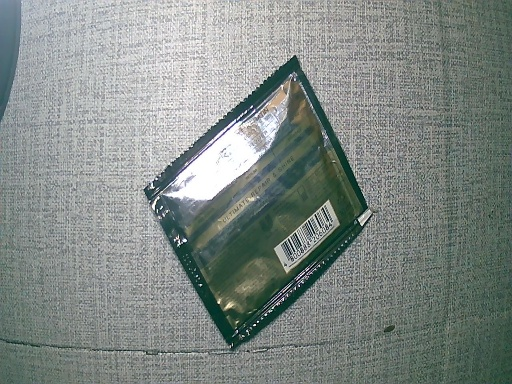plastic: (141, 52, 370, 356)
